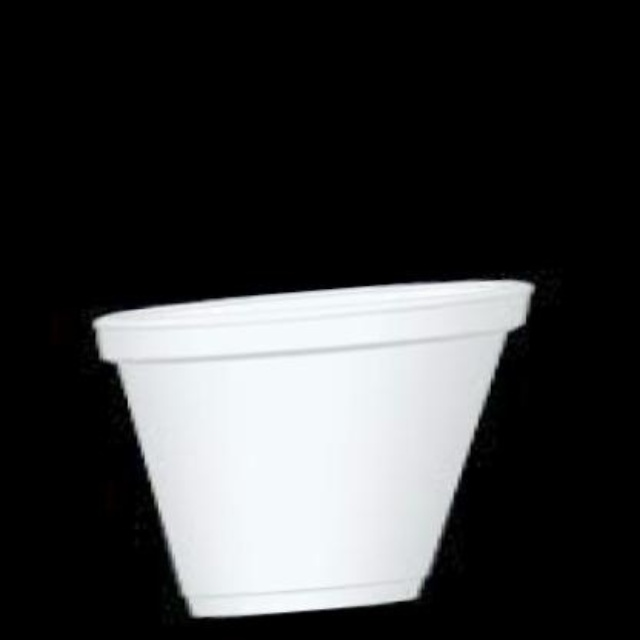trash: (94, 280, 532, 615)
